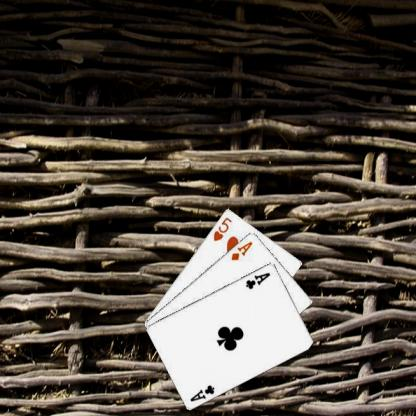5H: (210, 214, 233, 242)
AC: (243, 270, 272, 290), (188, 382, 216, 402)
AD: (228, 238, 254, 262)
